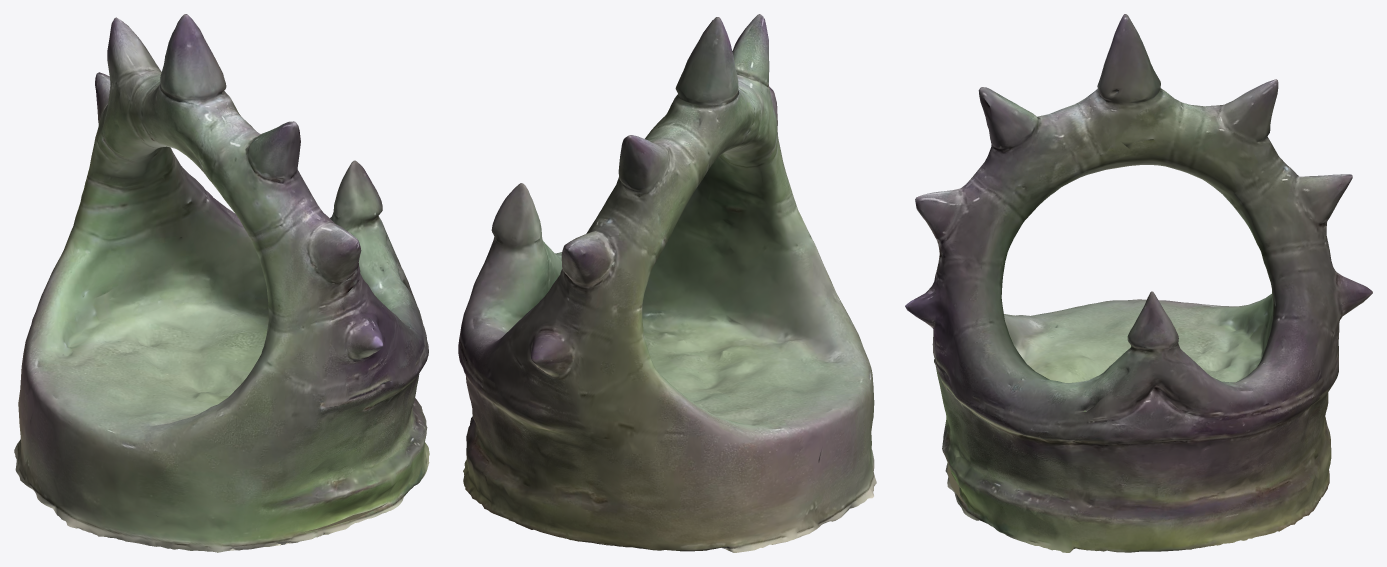
3 renders of one model, left to right at view 1: azimuth 30°, elevation 25°; view 2: azimuth 150°, elevation 25°; view 3: azimuth 270°, elevation 25°, orthographic. The views are drawn at different scales.
Visible parts, largest first — view 1: Mesh_0.006; view 2: Mesh_0.006; view 3: Mesh_0.006.
Boxes of the visible parts, x1,y1,x2,y2 form: Mesh_0.006: (14,14,429,552); Mesh_0.006: (458,14,876,552); Mesh_0.006: (905,14,1372,552).
Bounding box in the file's own units: 1.42 × 1.78 × 1.7.
6 materials, 5 textured.
